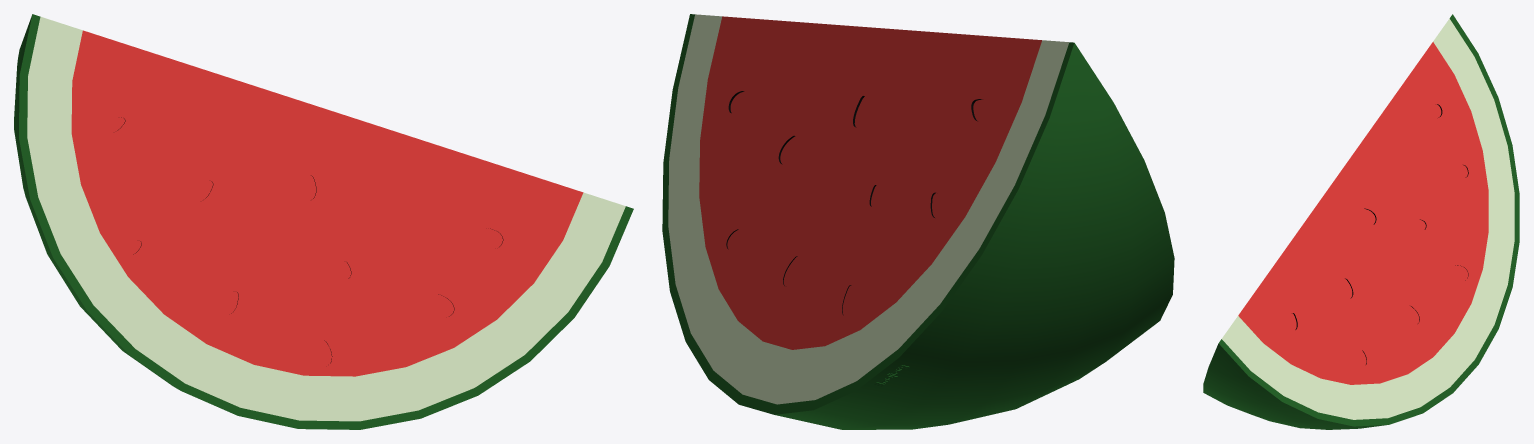
The model's file is watermelon.glb.
3 renders of one model, left to right at view 1: azimuth 30°, elevation 25°; view 2: azimuth 150°, elevation 25°; view 3: azimuth 270°, elevation 25°, orthographic. The views are drawn at different scales.
Parts seen in each view (by area): view 1: Sphere.005; view 2: Sphere.005; view 3: Sphere.005.
Boxes of the visible parts, bbox=[...] form: Sphere.005: bbox=[14, 14, 633, 429]; Sphere.005: bbox=[662, 14, 1174, 429]; Sphere.005: bbox=[1203, 14, 1519, 429].
Size of the model in its own units: 2.27 by 1.71 by 1.61.
Materials: 1 (1 with a texture image).
